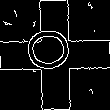O_E: (29, 33, 81, 77)
